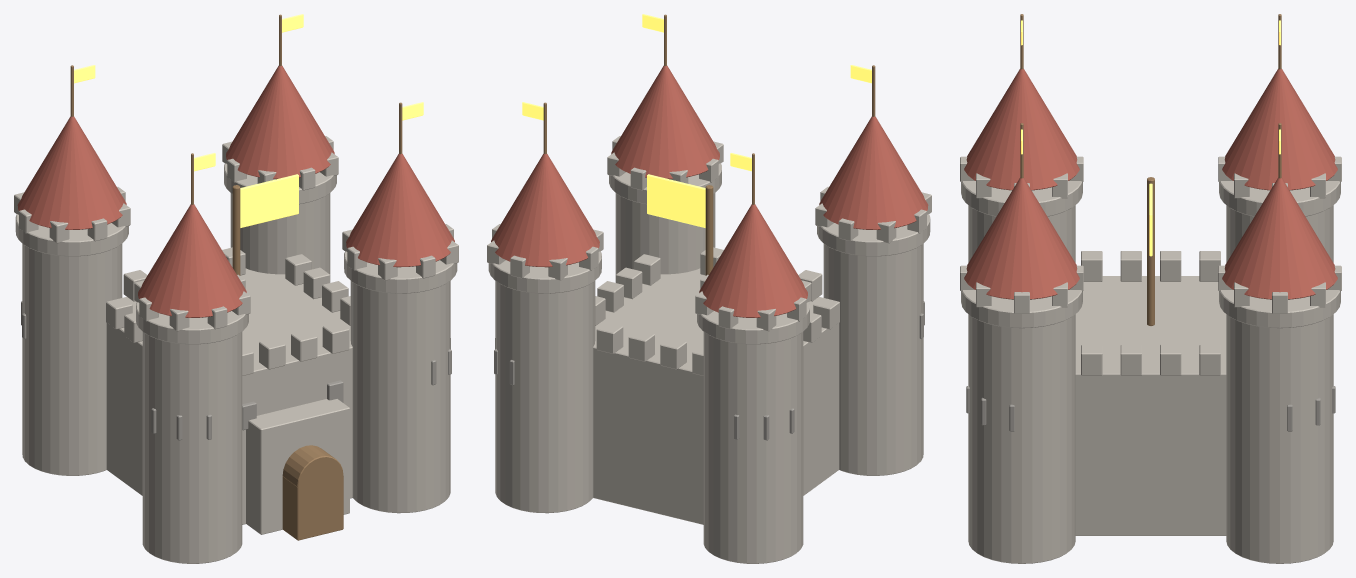
File: castle.glb
3 views of the same model, side by side, from view 1: azimuth 30°, elevation 25°; view 2: azimuth 150°, elevation 25°; view 3: azimuth 270°, elevation 25° (orthographic). The views are drawn at different scales.
Visible parts, largest first — view 1: castle; view 2: castle; view 3: castle.
Boxes of the visible parts, box(x1,y1,x2,y2) form: castle: box(14, 14, 458, 563); castle: box(487, 14, 931, 563); castle: box(960, 14, 1341, 563).
Size of the model in its own units: 2.13 by 2.58 by 2.13.
